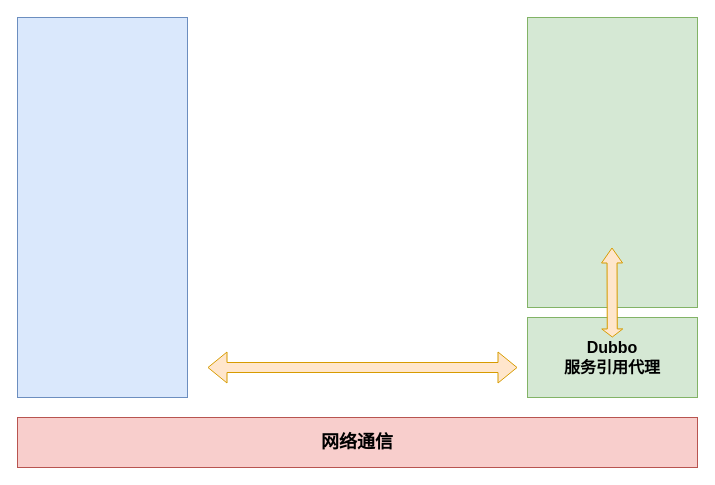
The diagram is 715 pixels wide and 485 high, and some of its shapes have lost their labels. Here are the shapes that lost their labels. From the top down, the box of each, then its label:
(526, 16, 698, 308): 消费者业务代码
(16, 16, 188, 398): 服务提供方
